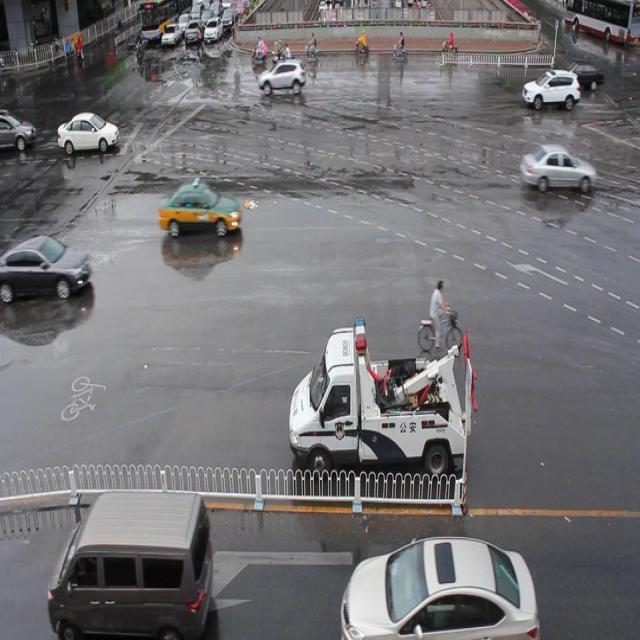bus: (289, 308, 475, 475)
car: (340, 533, 538, 640), (1, 232, 91, 298), (158, 180, 241, 238), (519, 140, 596, 194), (520, 66, 579, 110), (58, 112, 120, 152), (256, 56, 304, 94), (558, 60, 603, 92)
truck: (49, 490, 213, 640)
